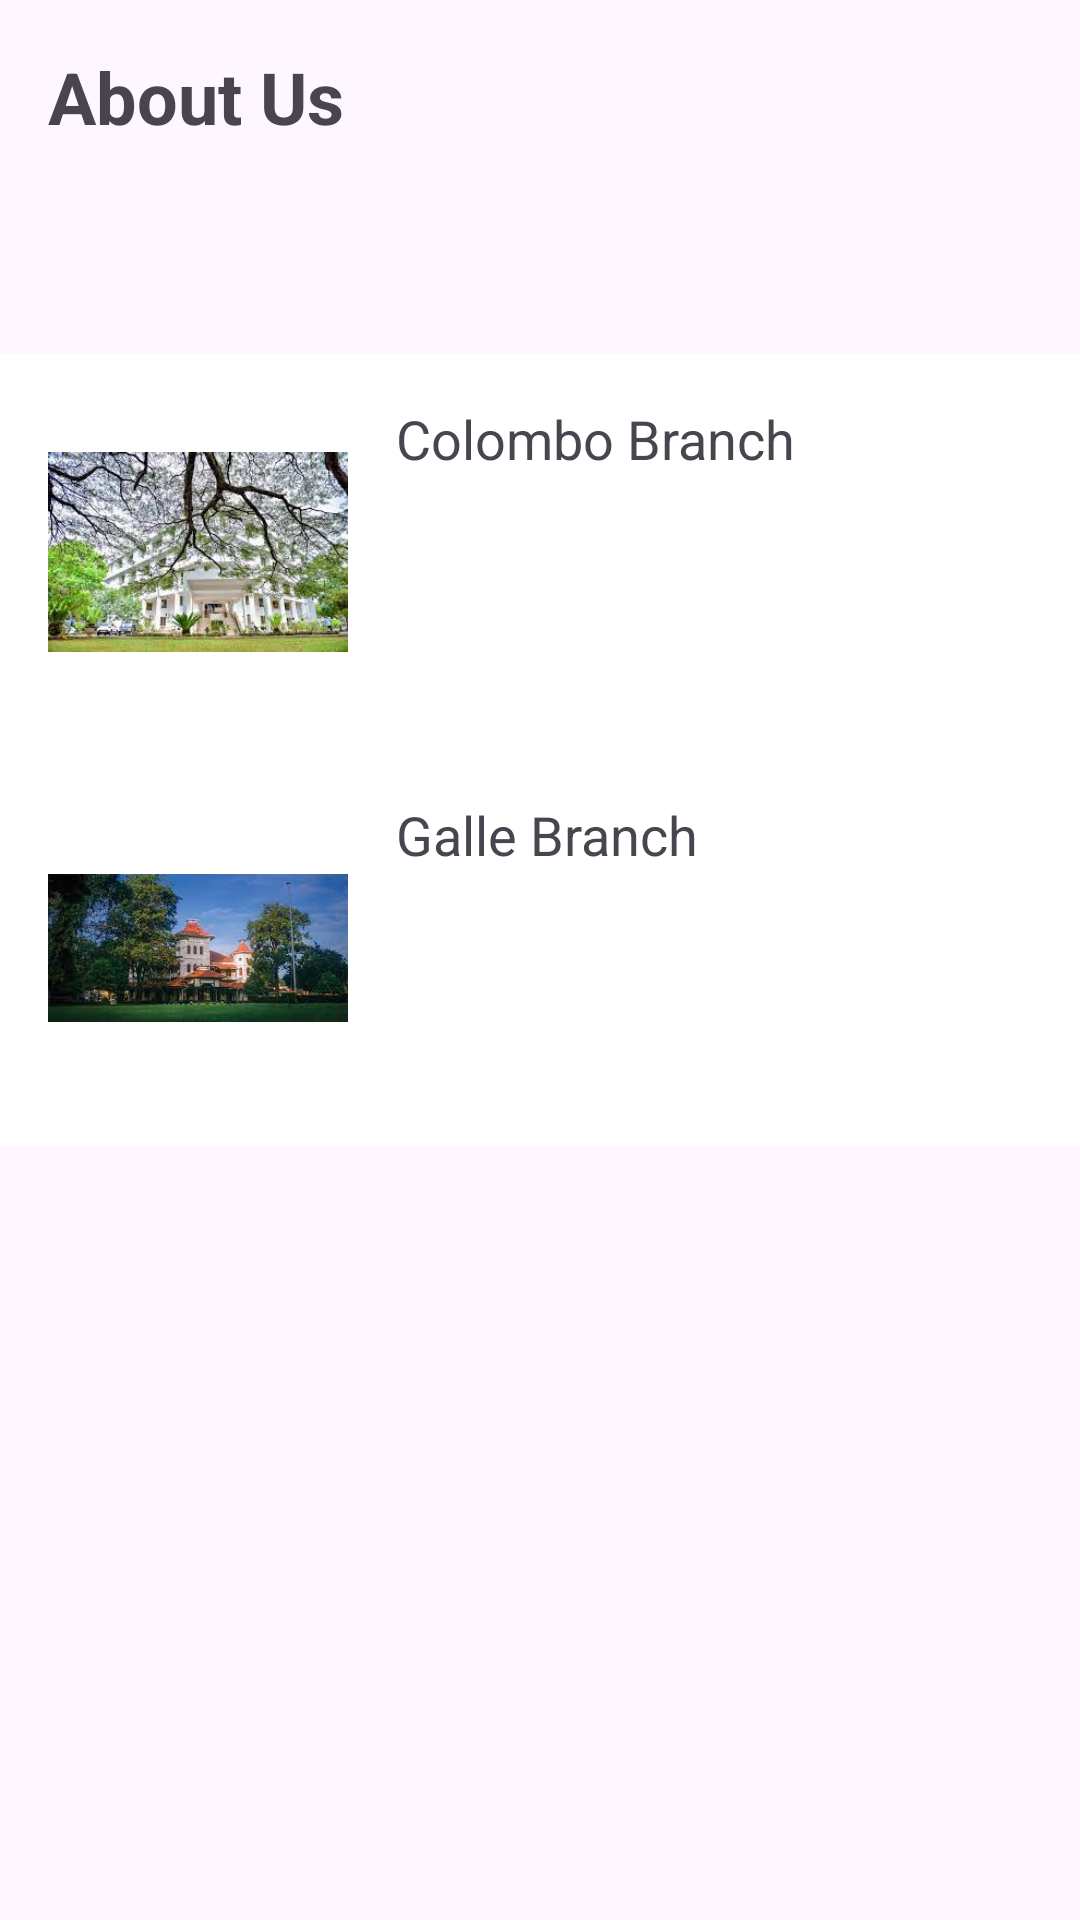

Where to tap for icons on this 1080px x 1920px app screen, as (x=x, y=y):
campus: (x=198, y=552), (x=198, y=948)
